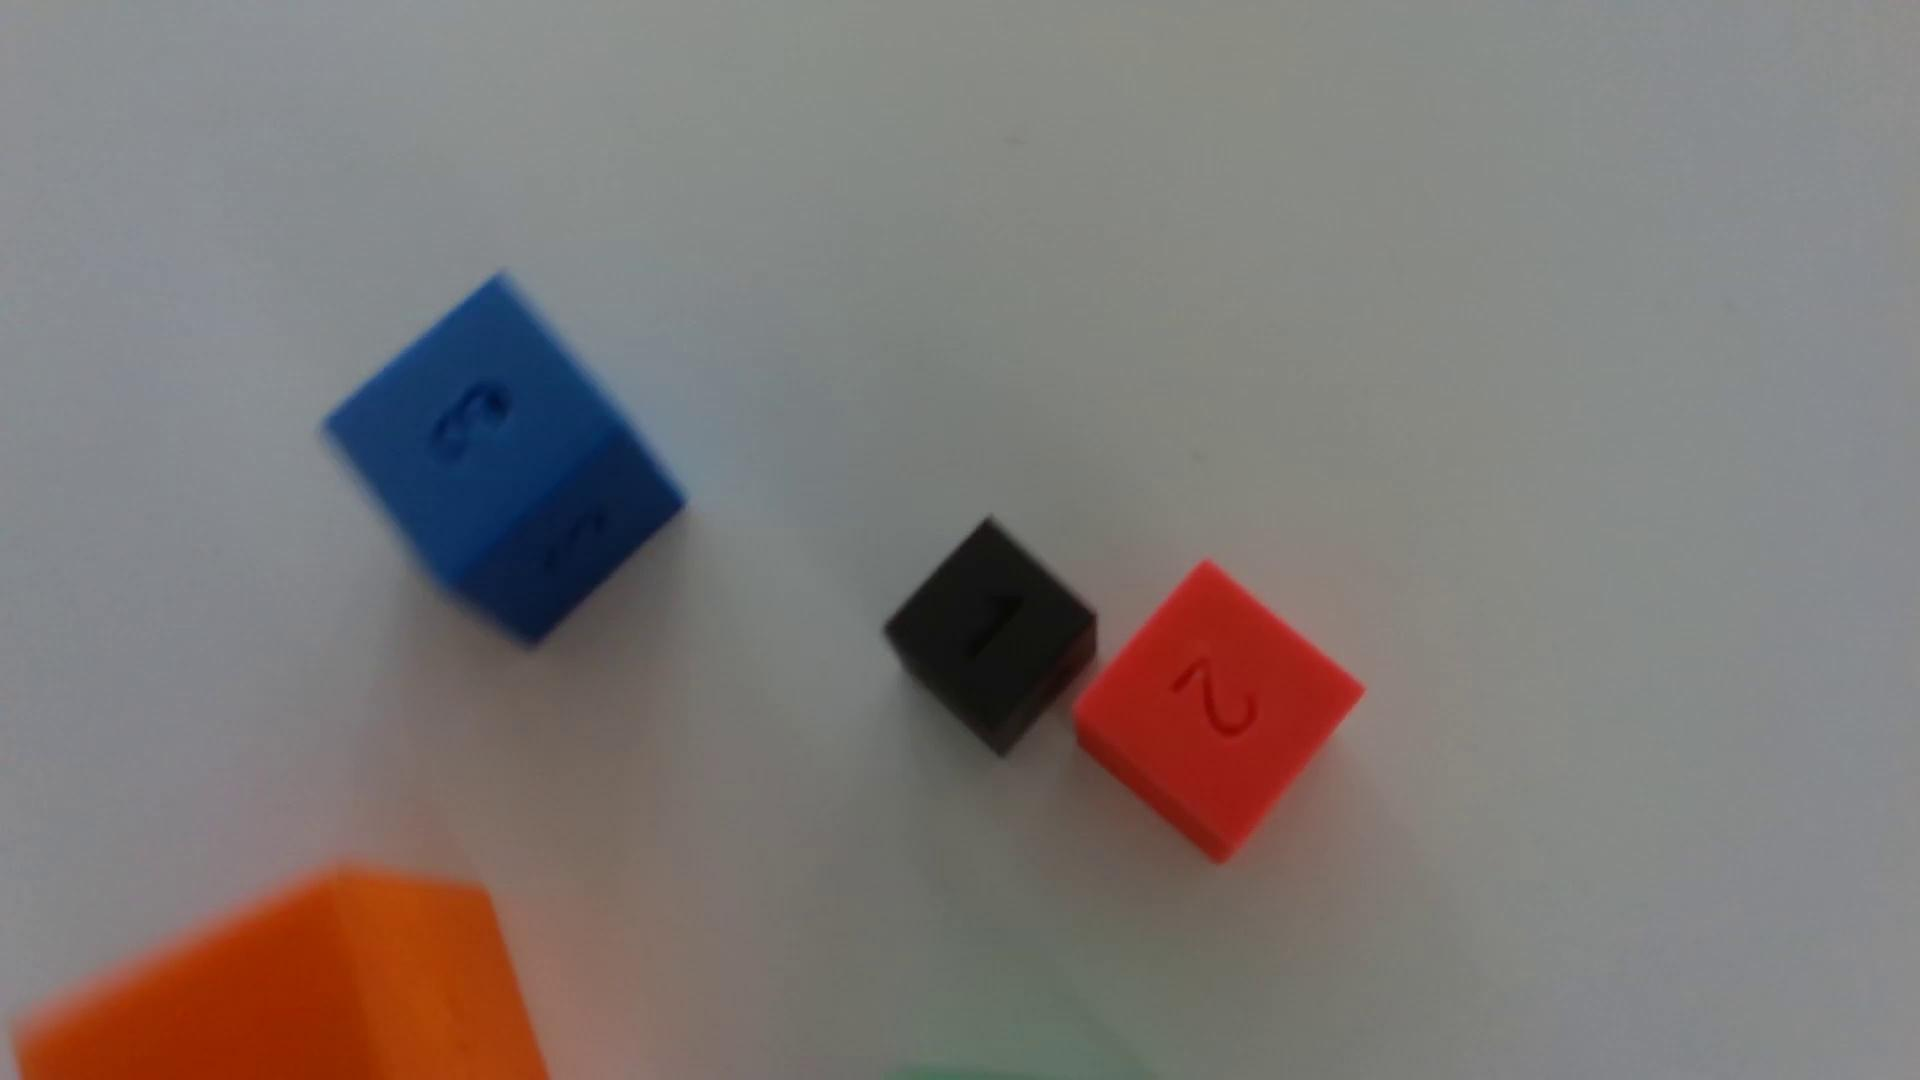black: (884, 520, 1098, 756)
blue: (324, 278, 684, 644)
green: (898, 1065, 1031, 1080)
orange: (15, 869, 549, 1080)
red: (1073, 564, 1362, 862)
